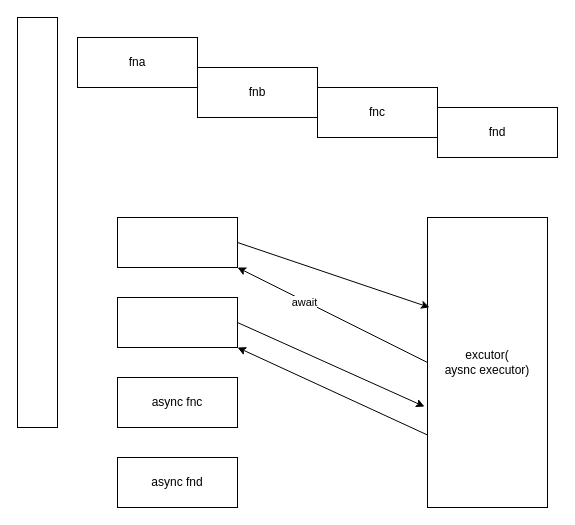
Some shapes in this 575 by 525 pixel diagram are drawn without their labels. The shapes that lost their labels are listed below. From the top down, each one's centre as x and y in pixels, then its label:
point 37,222: 事件触发器
point 177,242: async fna
point 177,322: async fnb
